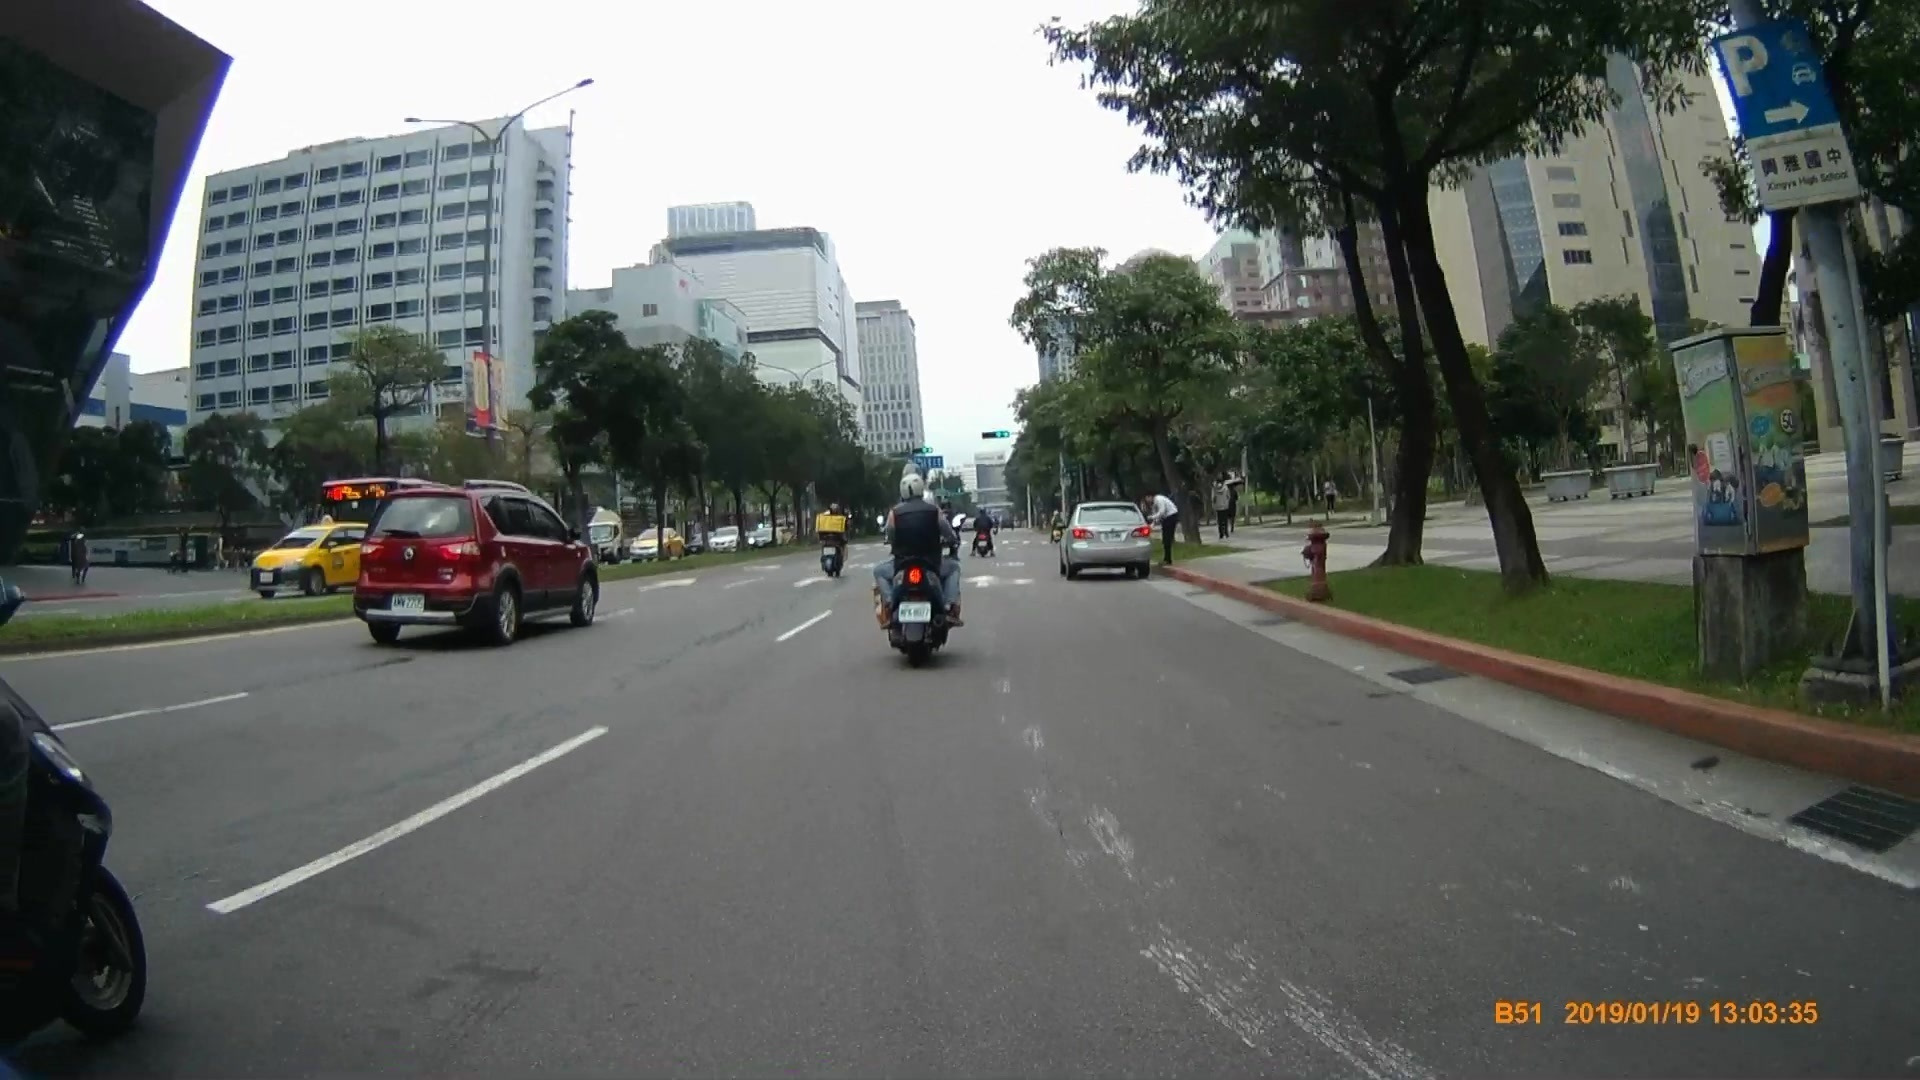License_plate: (896, 598, 933, 624), (389, 589, 429, 612), (1099, 528, 1126, 543)
